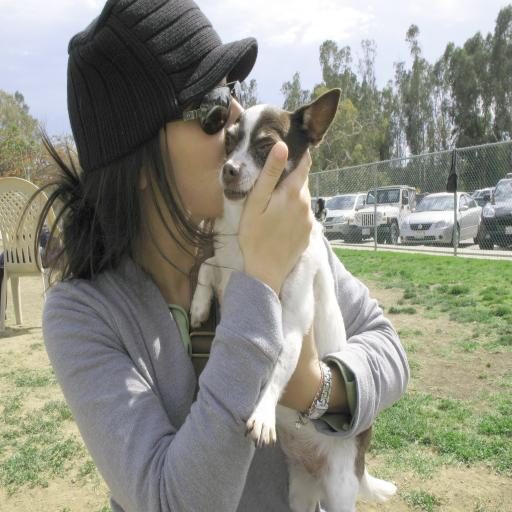dog_face: (220, 87, 342, 209)
